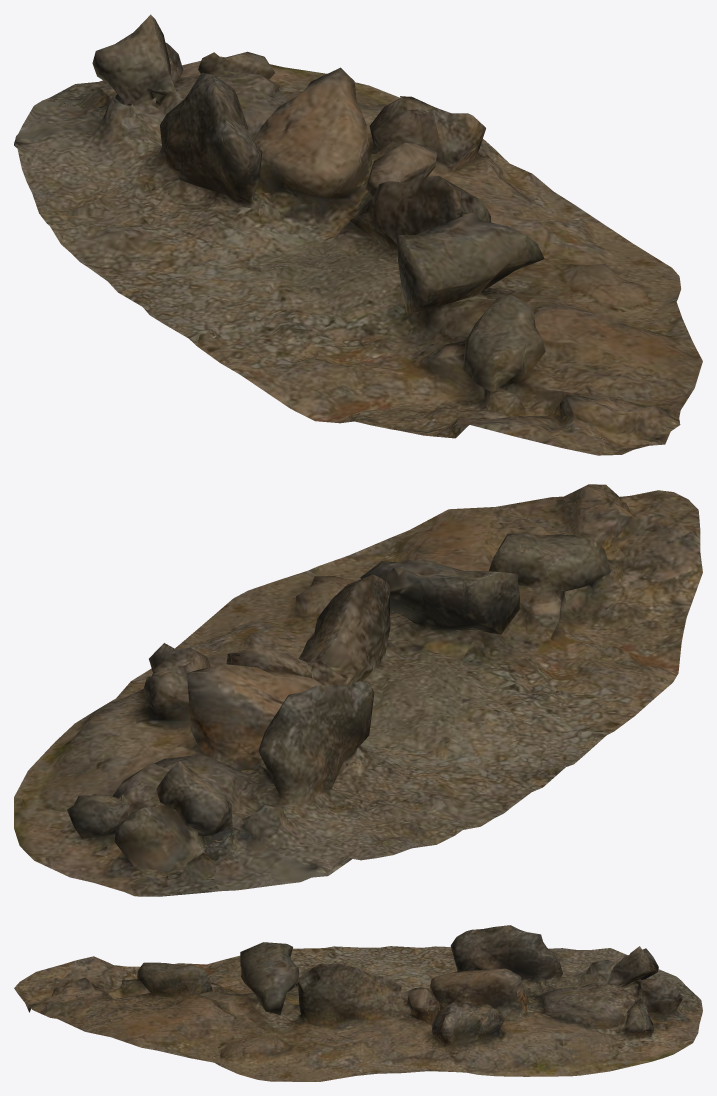
3 renders of one model, top to bottom at view 1: azimuth 30°, elevation 25°; view 2: azimuth 150°, elevation 25°; view 3: azimuth 270°, elevation 25°, orthographic. The views are drawn at different scales.
Visible parts, largest first — view 1: coast_land_rocks_02_lod1; view 2: coast_land_rocks_02_lod1; view 3: coast_land_rocks_02_lod1.
Boxes of the visible parts, x1,y1,x2,y2 form: coast_land_rocks_02_lod1: (14, 14, 702, 455); coast_land_rocks_02_lod1: (14, 484, 702, 896); coast_land_rocks_02_lod1: (14, 925, 702, 1081).
Bounding box in the file's own units: 4.87 × 1.37 × 10.43.
Materials: 1 (1 with a texture image).
